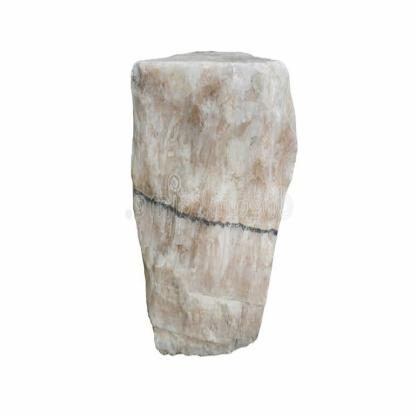Sedimentary_Limestone: (124, 53, 298, 357)
